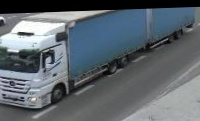car: (0, 15, 6, 30)
